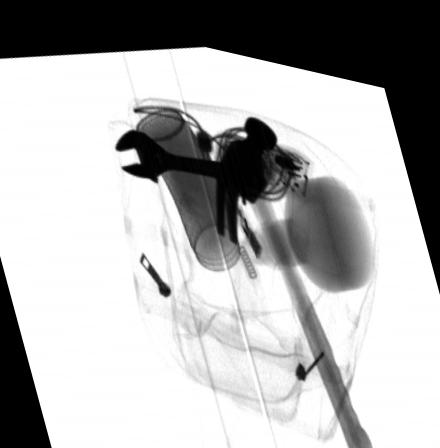Hammer: (215, 105, 376, 448)
Wrench: (113, 124, 258, 177)
